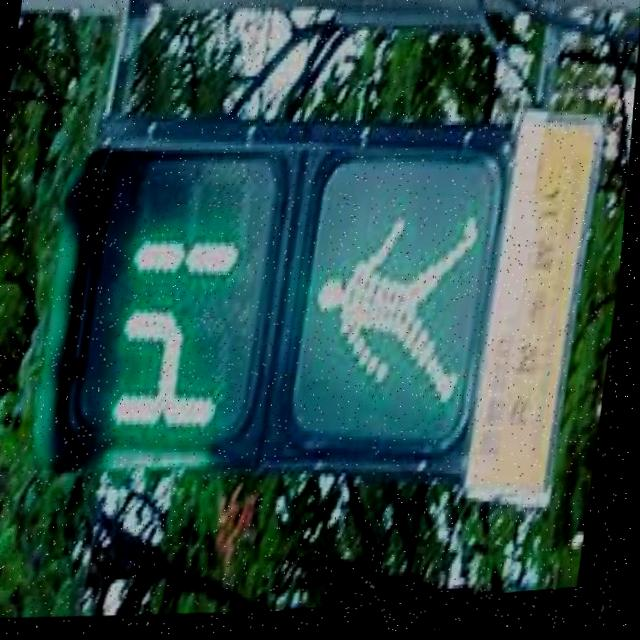green_light: (95, 141, 500, 484)
